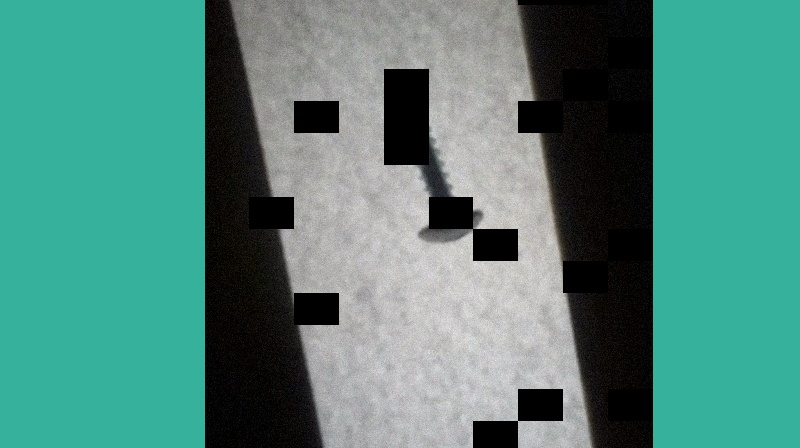S003: (390, 81, 487, 246)
